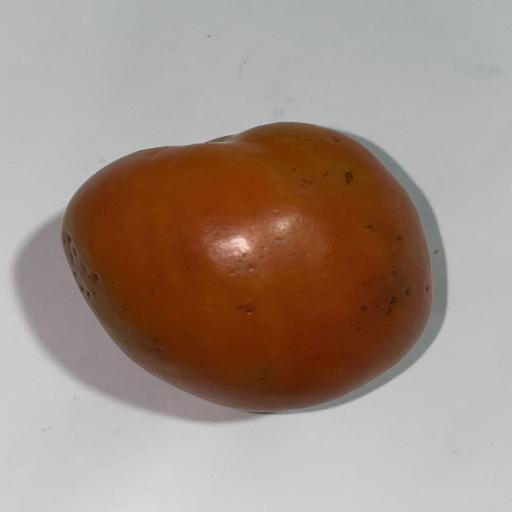unripe: (61, 123, 432, 411)
